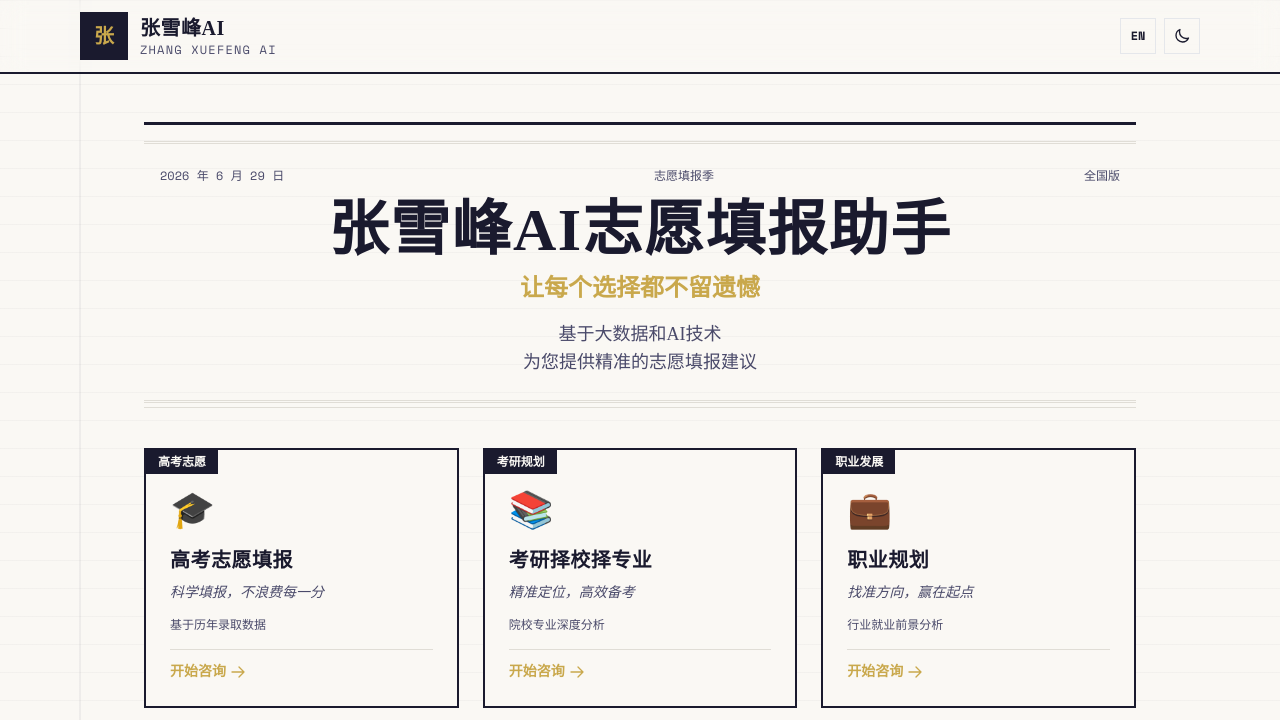
Test: App › navigates back to portal from form view
# Go to form
Click the list item "高考志愿 🎓 高考志愿填报 科学填报，不浪费每一分 基于历年录取数据 开始咨询" at (182, 462), box [144, 448, 459, 708]
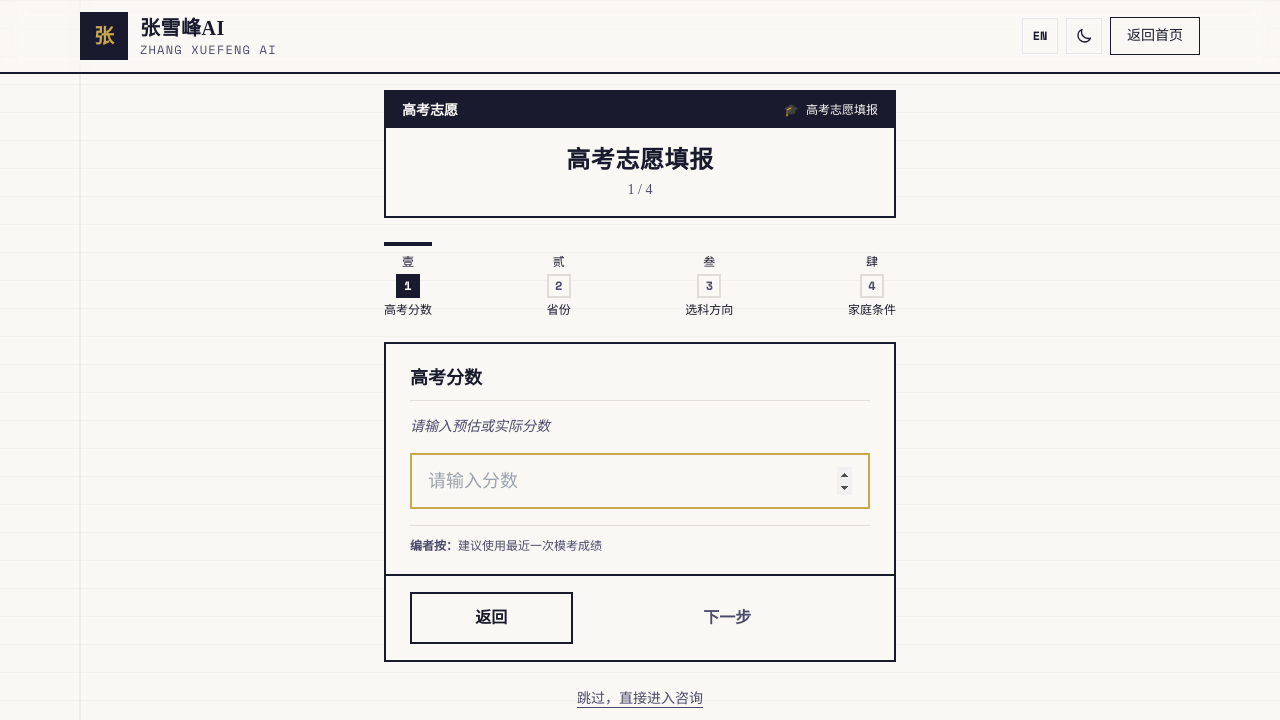
# Click back button
Click the button "返回" at (491, 618), box [410, 592, 573, 644]
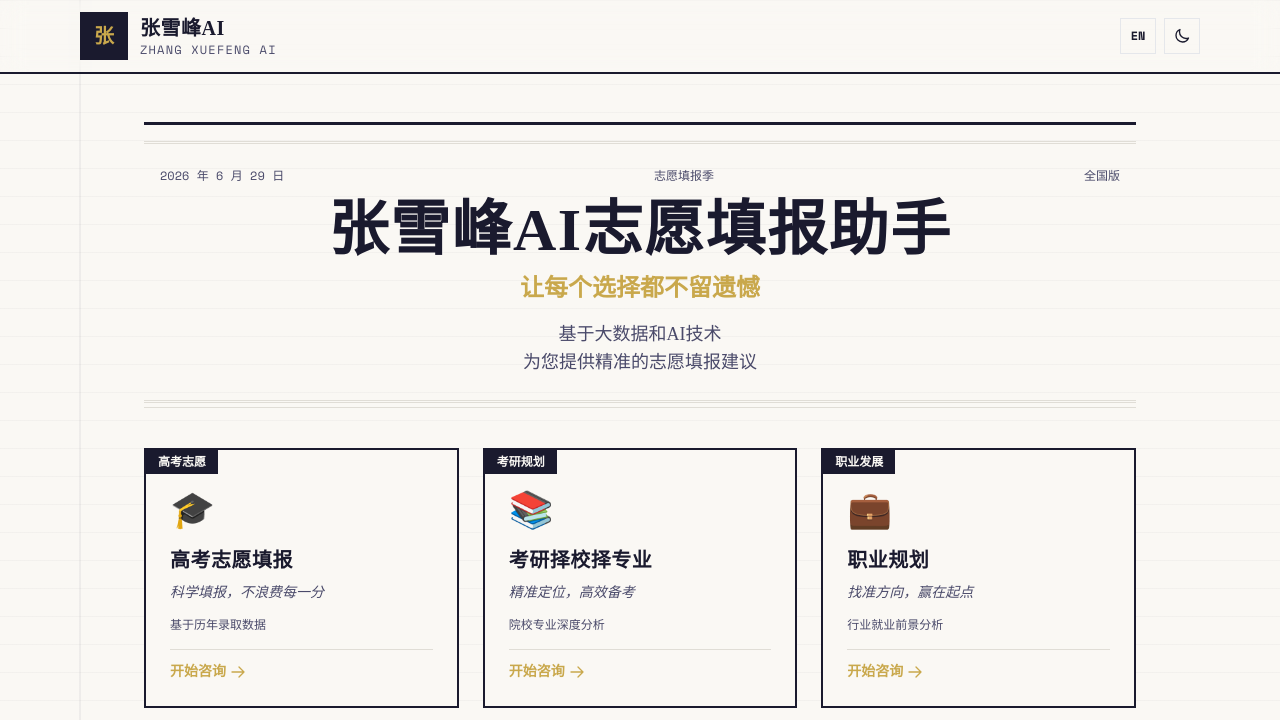
Now the list named "咨询场景选择" is shown, box [144, 448, 1136, 708]
